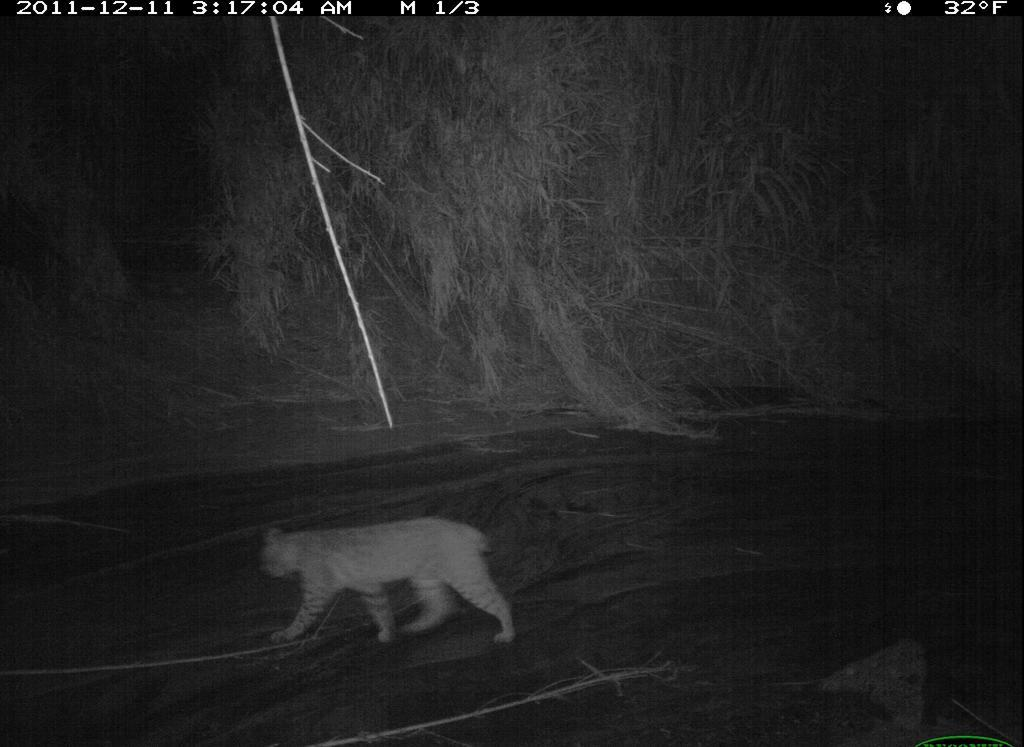bobcat: (251, 515, 511, 658)
